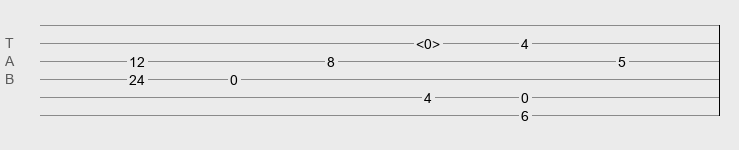0: (230, 72, 238, 82), (521, 90, 529, 100)
12: (129, 54, 145, 64)
24: (129, 72, 145, 82)
4: (424, 90, 432, 100), (521, 36, 529, 46)
5: (618, 54, 626, 64)
6: (521, 108, 529, 118)
8: (327, 54, 335, 64)
harmonic: (416, 36, 440, 46)
